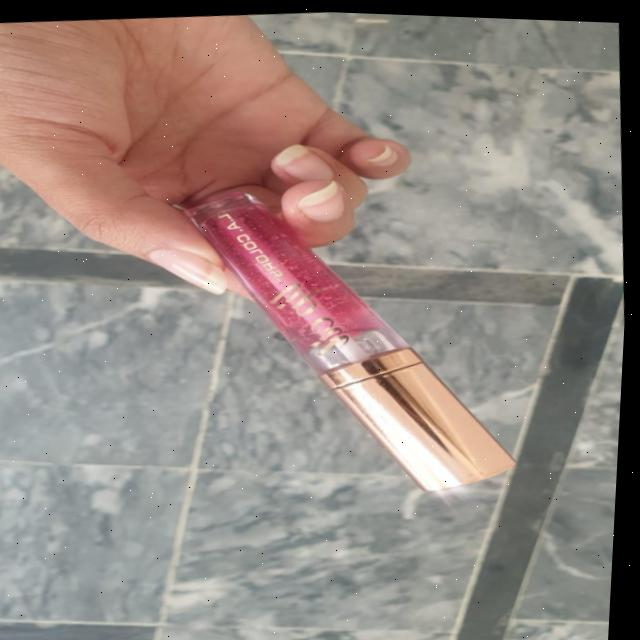lip gloss: (158, 150, 544, 519)
